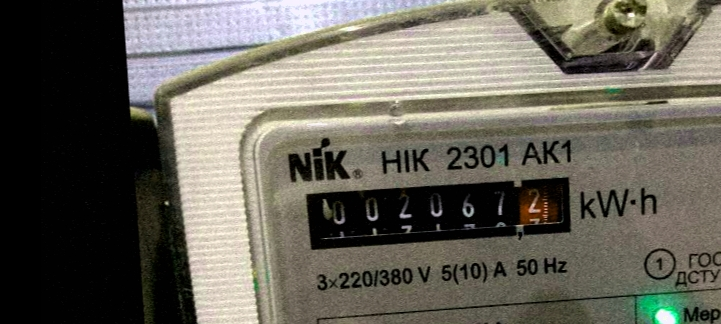0: (328, 196, 348, 226), (424, 187, 444, 216), (361, 192, 380, 222)
2: (523, 183, 543, 214), (394, 189, 413, 219)
6: (457, 188, 477, 218)
7: (490, 186, 508, 217)
screen: (290, 161, 587, 262)
